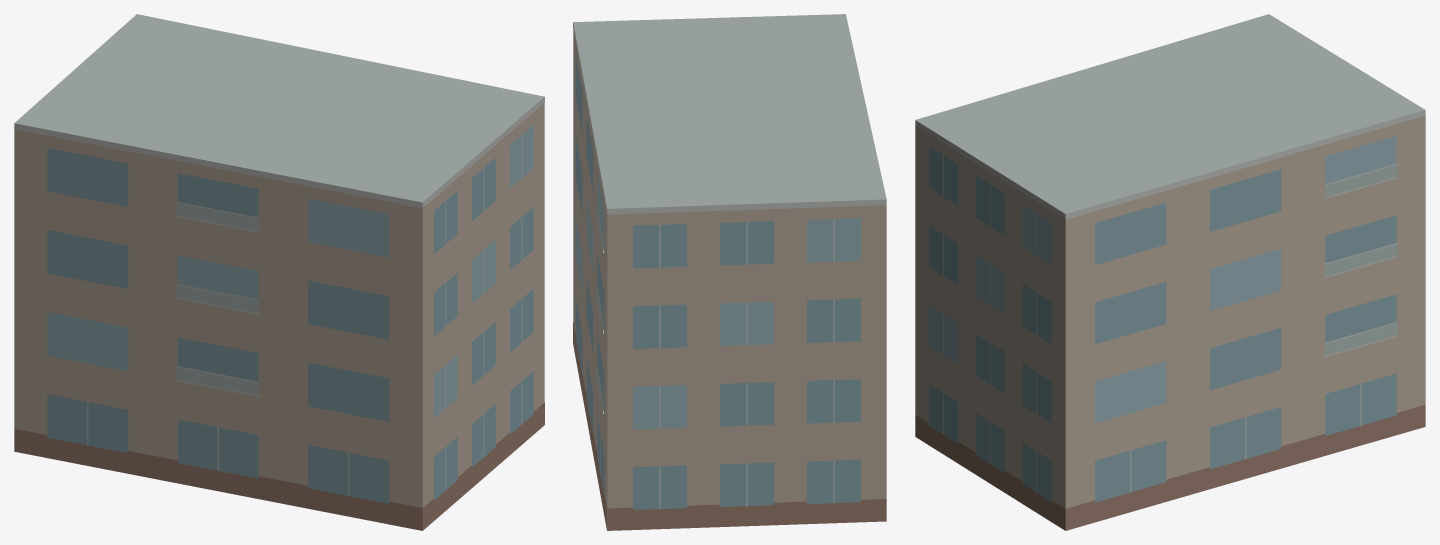
The model's file is survey-upis-32755359.glb.
3 renders of one model, left to right at view 1: azimuth 30°, elevation 25°; view 2: azimuth 150°, elevation 25°; view 3: azimuth 270°, elevation 25°, orthographic. The views are drawn at different scales.
Parts seen in each view (by area): view 1: survey-upis-32755359.tmp; view 2: survey-upis-32755359.tmp; view 3: survey-upis-32755359.tmp.
Part boxes in pixels (left/top/right/bottom): survey-upis-32755359.tmp: left=14, top=14, right=544, bottom=530; survey-upis-32755359.tmp: left=573, top=14, right=886, bottom=530; survey-upis-32755359.tmp: left=915, top=14, right=1425, bottom=530.
Size of the model in its own units: 18.44 by 13.6 by 19.87.
